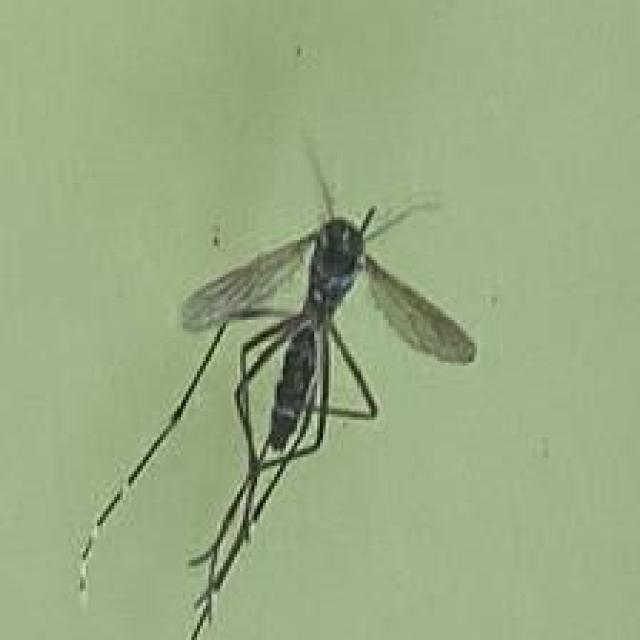Aedes albopictus: (75, 128, 478, 640)
